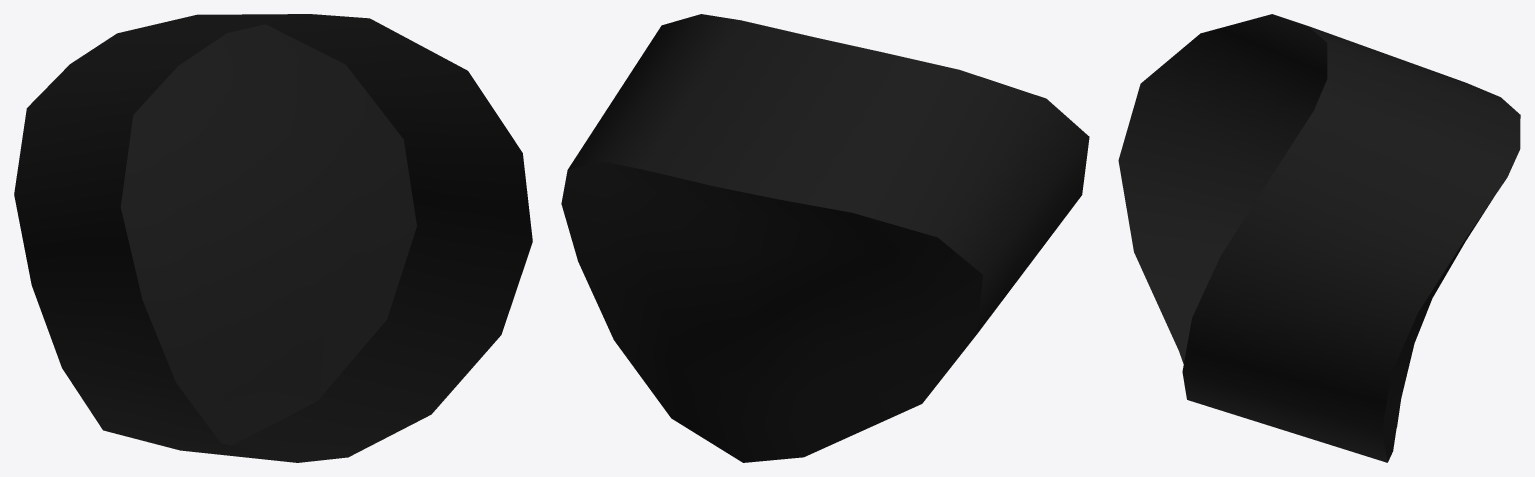
The model's file is crystal_controller_left_button7.obj.
The picture shows the model from 3 angles, left to right: view 1: azimuth 30°, elevation 25°; view 2: azimuth 150°, elevation 25°; view 3: azimuth 270°, elevation 25°; orthographic projection. The views are drawn at different scales.
Parts seen in each view (by area): view 1: crystal_controller_left_button7; view 2: crystal_controller_left_button7; view 3: crystal_controller_left_button7.
Part boxes in pixels (<box>): crystal_controller_left_button7: <box>14,14,532,462</box>; crystal_controller_left_button7: <box>561,14,1089,462</box>; crystal_controller_left_button7: <box>1118,14,1520,462</box>.
Bounding box in the file's own units: 0.0305 × 0.0308 × 0.0288.
1 material, 1 textured.
